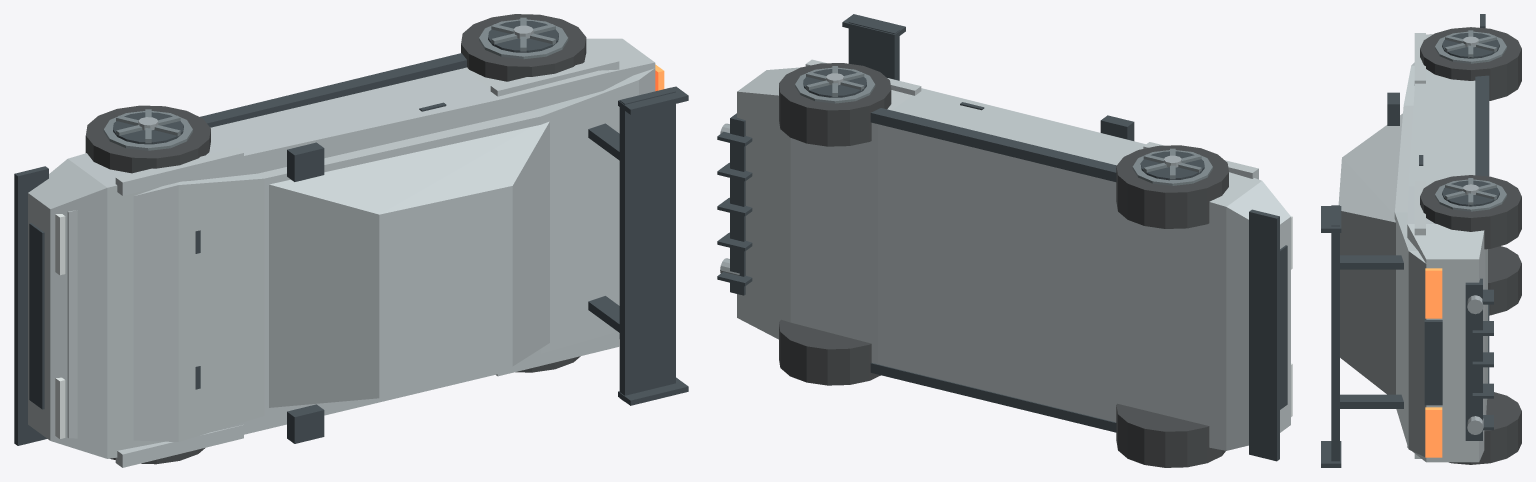
The model's file is neon-rush-car.glb.
3 views of the same model, side by side, from view 1: azimuth 30°, elevation 25°; view 2: azimuth 150°, elevation 25°; view 3: azimuth 270°, elevation 25° (orthographic). The views are drawn at different scales.
Parts seen in each view (by area): view 1: angular_cabin, hood_and_rear_shoulders, faceted_lower_body, rear_wing, front_splitter, front_tire_1, rear_tire_1, side_skirt_1, front_air_intake, fender_upper_-1.4_1, fender_upper_-1.4_-1, fender_upper_1.38_1 (+10 smaller); view 2: faceted_lower_body, front_splitter, front_tire_1, rear_tire_1, front_tire_-1, rear_tire_-1, side_skirt_1, side_skirt_-1, rear_wing, rear_diffuser, front_air_intake, front_wheel_inner_1 (+5 smaller); view 3: faceted_lower_body, angular_cabin, hood_and_rear_shoulders, rear_tire_1, front_tire_1, rear_diffuser, rear_wing, rear_tire_-1, front_tire_-1, rear_center_panel, side_skirt_1, wing_pillar_-1 (+17 smaller).
Part boxes in pixels (bbox=[...]): angular_cabin: bbox=[269, 121, 549, 407]; hood_and_rear_shoulders: bbox=[67, 68, 655, 441]; faceted_lower_body: bbox=[28, 38, 655, 458]; rear_wing: bbox=[619, 87, 675, 401]; front_splitter: bbox=[14, 166, 48, 445]; front_tire_1: bbox=[85, 105, 210, 173]; rear_tire_1: bbox=[461, 14, 586, 81]; side_skirt_1: bbox=[200, 53, 466, 127]; front_air_intake: bbox=[29, 223, 44, 409]; fender_upper_-1.4_1: bbox=[115, 148, 243, 195]; fender_upper_-1.4_-1: bbox=[115, 424, 243, 467]; fender_upper_1.38_1: bbox=[490, 56, 619, 96]; faceted_lower_body: bbox=[737, 67, 1290, 450]; front_splitter: bbox=[1249, 209, 1279, 461]; front_tire_1: bbox=[1116, 145, 1228, 228]; rear_tire_1: bbox=[779, 63, 891, 146]; front_tire_-1: bbox=[1116, 403, 1225, 467]; rear_tire_-1: bbox=[779, 319, 880, 385]; side_skirt_1: bbox=[870, 108, 1116, 181]; side_skirt_-1: bbox=[870, 363, 1116, 432]; rear_wing: bbox=[848, 18, 899, 80]; rear_diffuser: bbox=[730, 113, 745, 295]; front_air_intake: bbox=[1280, 245, 1287, 409]; front_wheel_inner_1: bbox=[1140, 151, 1204, 180]; faceted_lower_body: bbox=[1407, 34, 1487, 462]; angular_cabin: bbox=[1338, 113, 1402, 394]; hood_and_rear_shoulders: bbox=[1394, 62, 1446, 456]; rear_tire_1: bbox=[1420, 175, 1521, 249]; front_tire_1: bbox=[1420, 27, 1521, 100]; rear_diffuser: bbox=[1465, 278, 1482, 440]; rear_wing: bbox=[1331, 205, 1339, 461]; rear_tire_-1: bbox=[1449, 392, 1521, 464]; front_tire_-1: bbox=[1488, 246, 1521, 315]; rear_center_panel: bbox=[1424, 320, 1442, 405]; side_skirt_1: bbox=[1475, 75, 1489, 176]; wing_pillar_-1: bbox=[1340, 394, 1403, 408].
Bounding box in the file's own units: 4.6 × 2.32 × 1.6.
